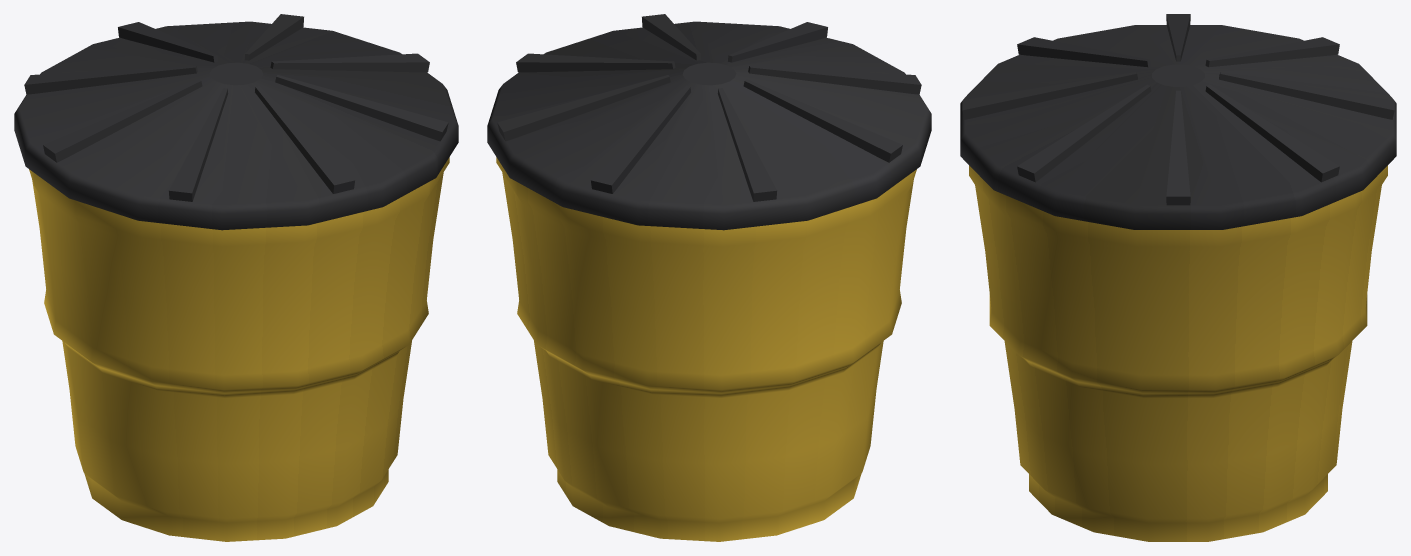
The model's file is workzone_sand_barrel.obj.
3 views of the same model, side by side, from view 1: azimuth 30°, elevation 25°; view 2: azimuth 150°, elevation 25°; view 3: azimuth 270°, elevation 25° (orthographic).
Parts seen in each view (by area): view 1: workzone_sand_barrel; view 2: workzone_sand_barrel; view 3: workzone_sand_barrel.
Part boxes in pixels (x1,y1,x2,y2): workzone_sand_barrel: [14, 14, 458, 541]; workzone_sand_barrel: [487, 14, 931, 541]; workzone_sand_barrel: [960, 14, 1396, 541].
Bounding box in the file's own units: 0.9134 × 0.9378 × 0.9134.
